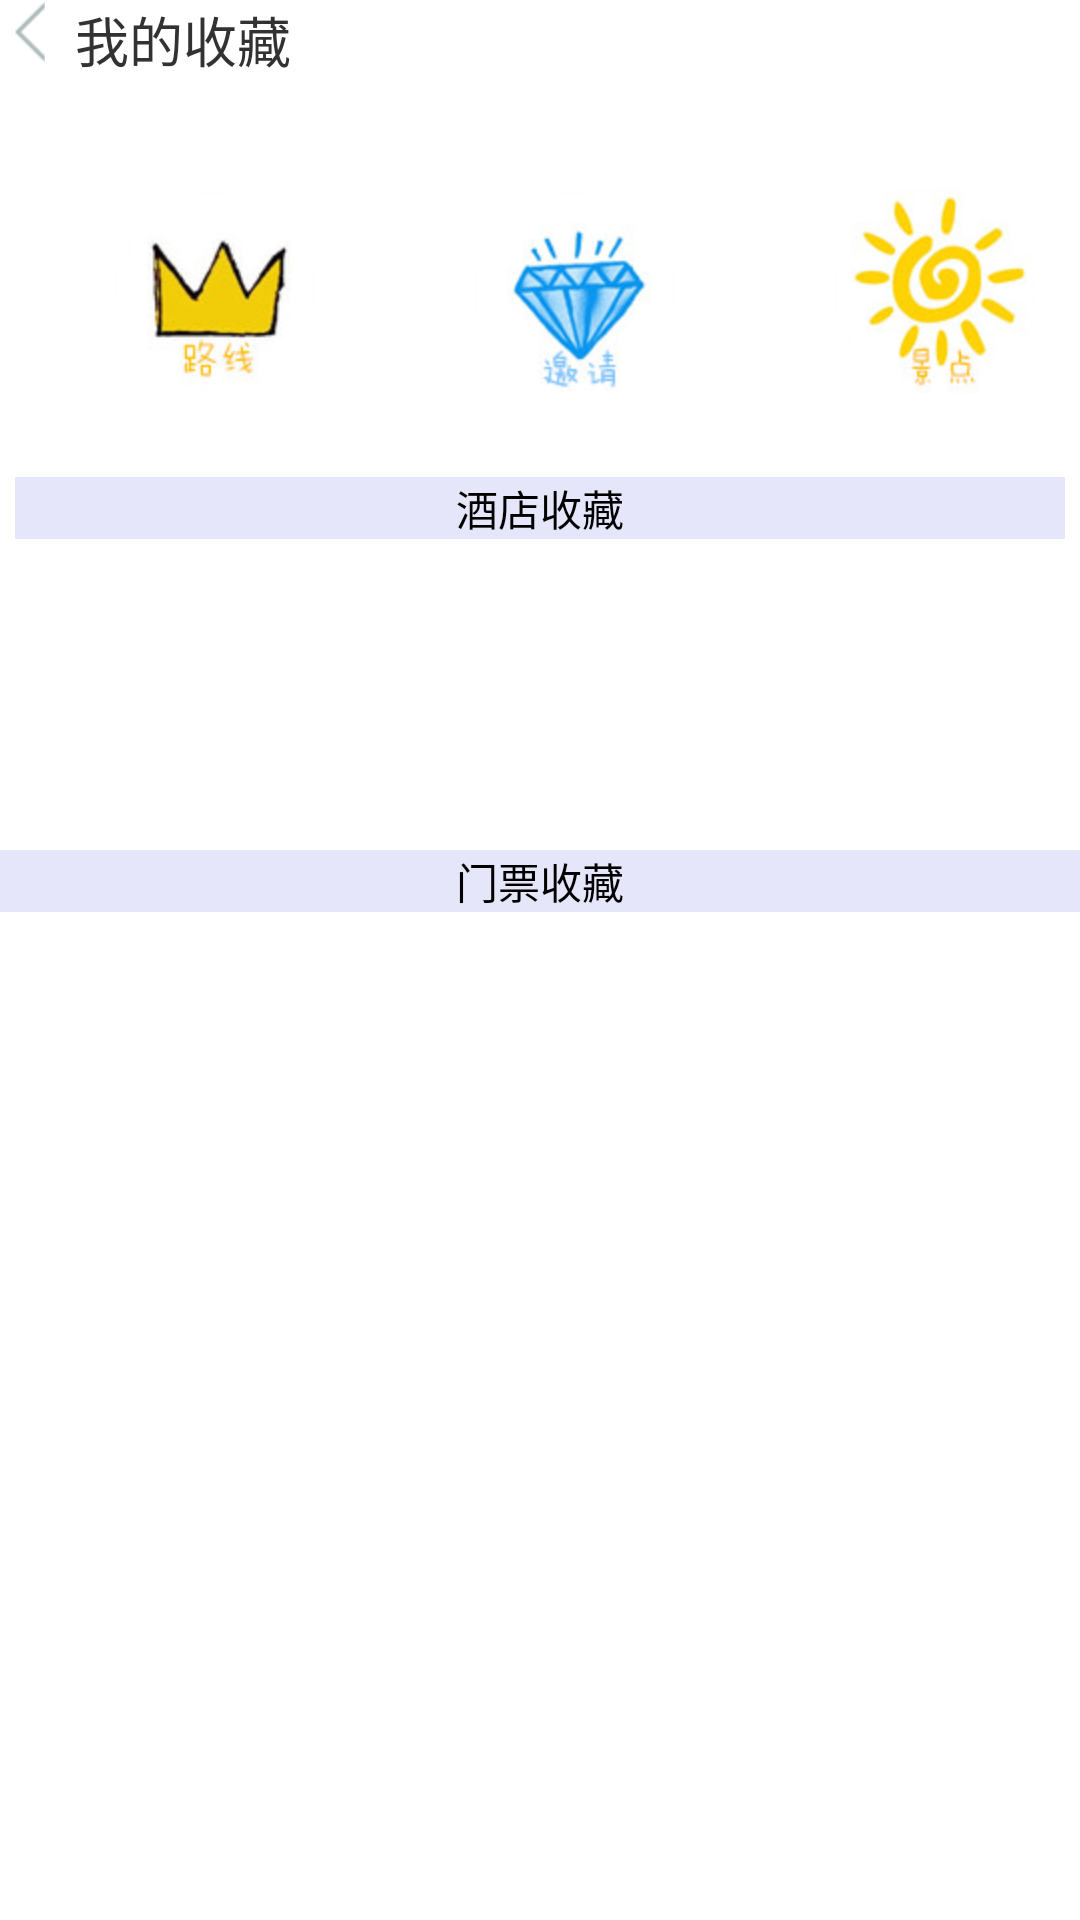

Where icons sit on this 1080 x 1920 app screen, as [x1=x1, y1=y1, x2=x2, y2=y2]:
arrow: [x1=15, y1=3, x2=45, y2=61]
